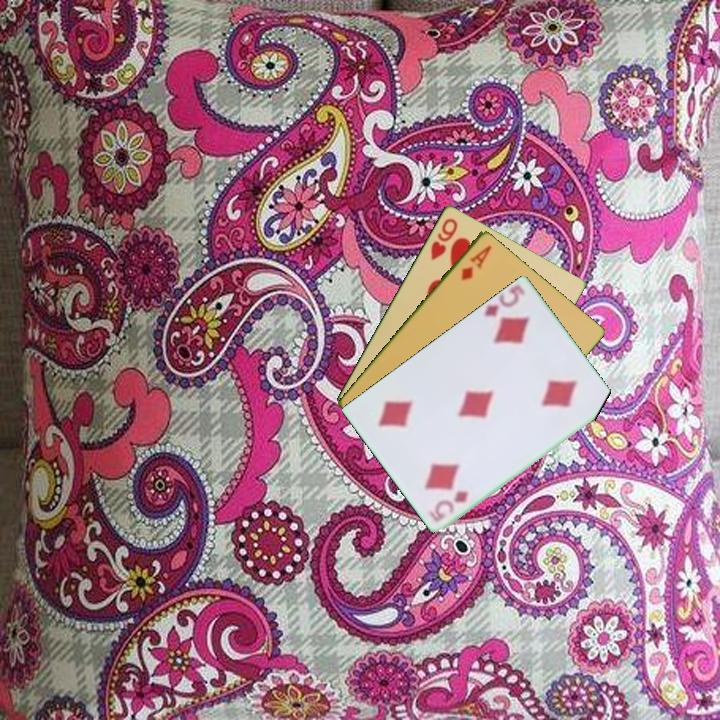5d: (427, 487, 471, 525), (480, 284, 526, 320)
9h: (427, 214, 461, 263)
Ad: (457, 241, 495, 283)
